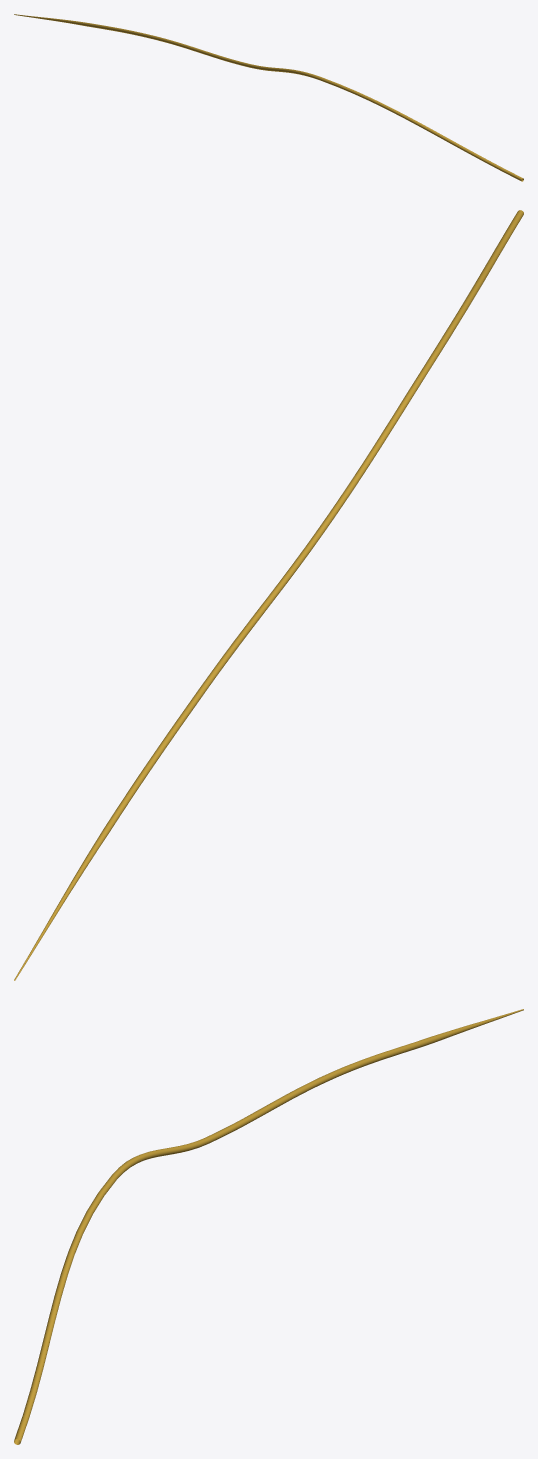
3 views of the same model, one above another, from view 1: azimuth 30°, elevation 25°; view 2: azimuth 150°, elevation 25°; view 3: azimuth 330°, elevation 25° (orthographic). The views are drawn at different scales.
Visible parts, largest first — view 1: 右侧骨间前神经; view 2: 右侧骨间前神经; view 3: 右侧骨间前神经.
Part boxes in pixels (box(x1,y1,x2,y2)): 右侧骨间前神经: box(14, 14, 523, 181); 右侧骨间前神经: box(14, 210, 523, 980); 右侧骨间前神经: box(14, 1009, 523, 1444).
Bounding box in the file's own units: 0.0573 × 0.0518 × 0.3089.
